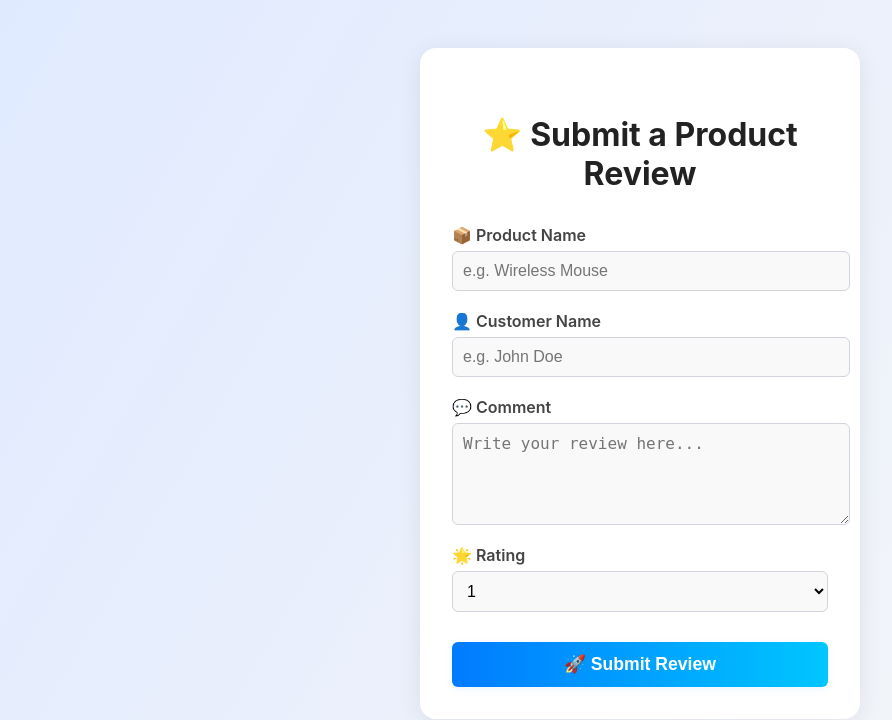
Scenario: App › submits the form and shows success message
The width and height of the screenshot is (892, 720).
Type "Test Product" into the field with test id "product-name-input" at point(651, 270), box [452,250,850,290]
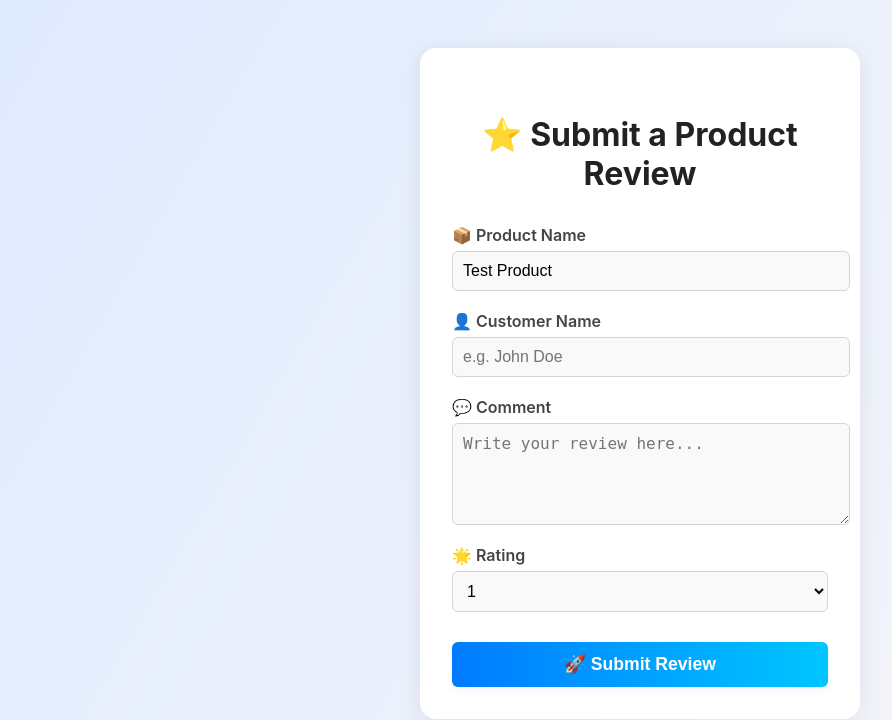
Type "John Doe" into the field with test id "customer-name-input" at point(651, 356), box [452,336,850,376]
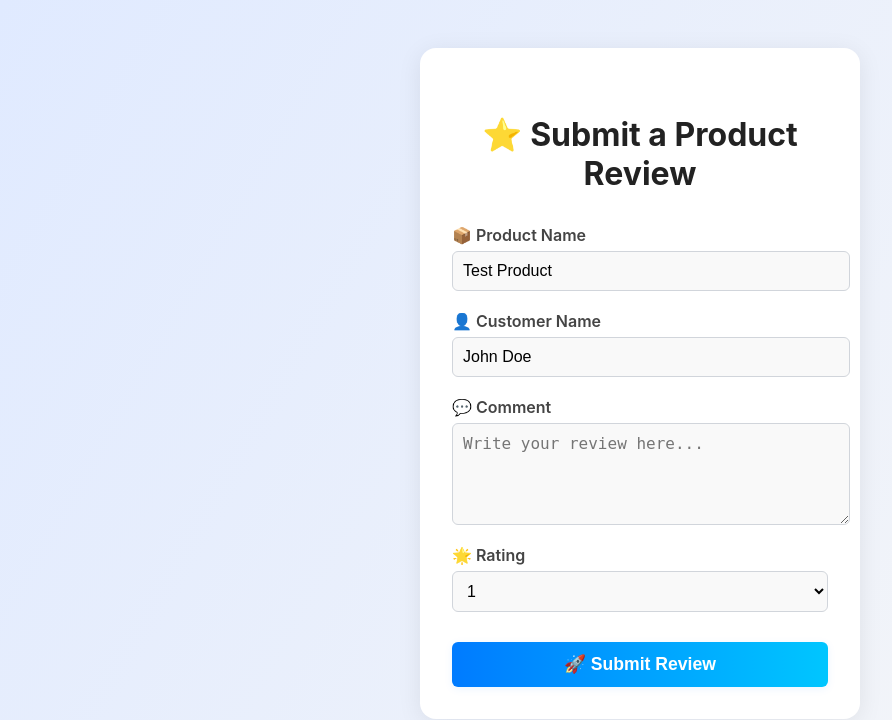
Type "Great product!" into the text box with test id "comment-input" at point(651, 474), box [452,422,850,524]
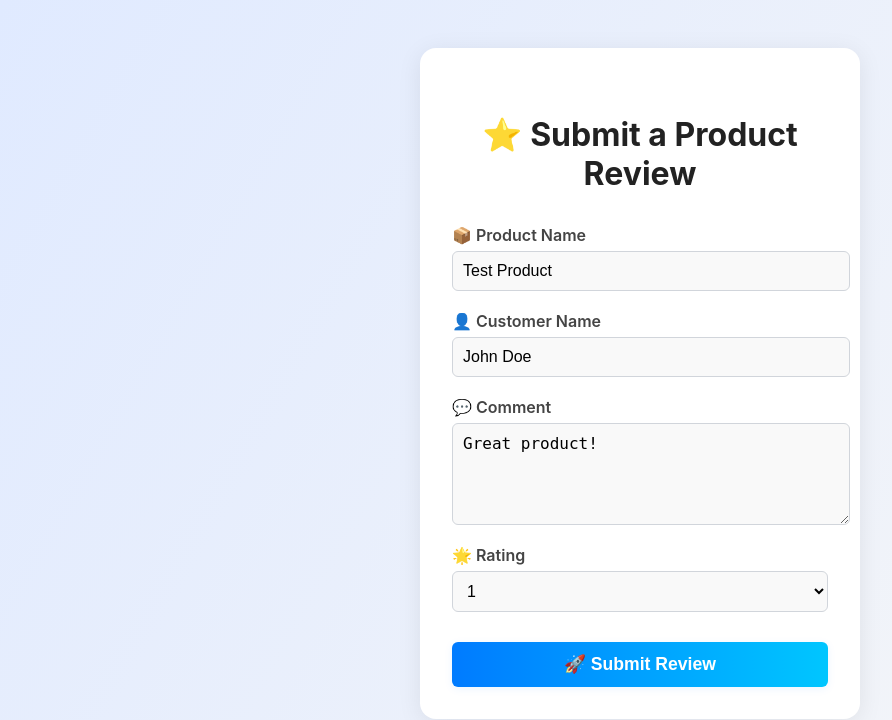
Select "5" in the dropdown with test id "rating-select" showing "🌟 Rating" at point(640, 591), box [452,570,828,612]
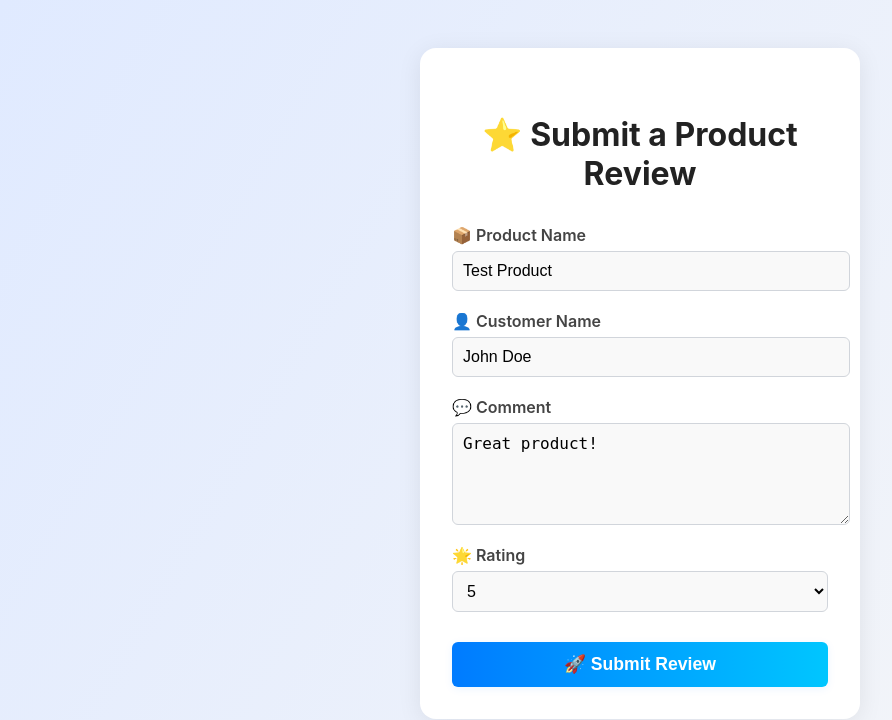
Click the button with test id "submit-review-btn" at point(640, 664), box [452,642,828,686]
(page scrolled)
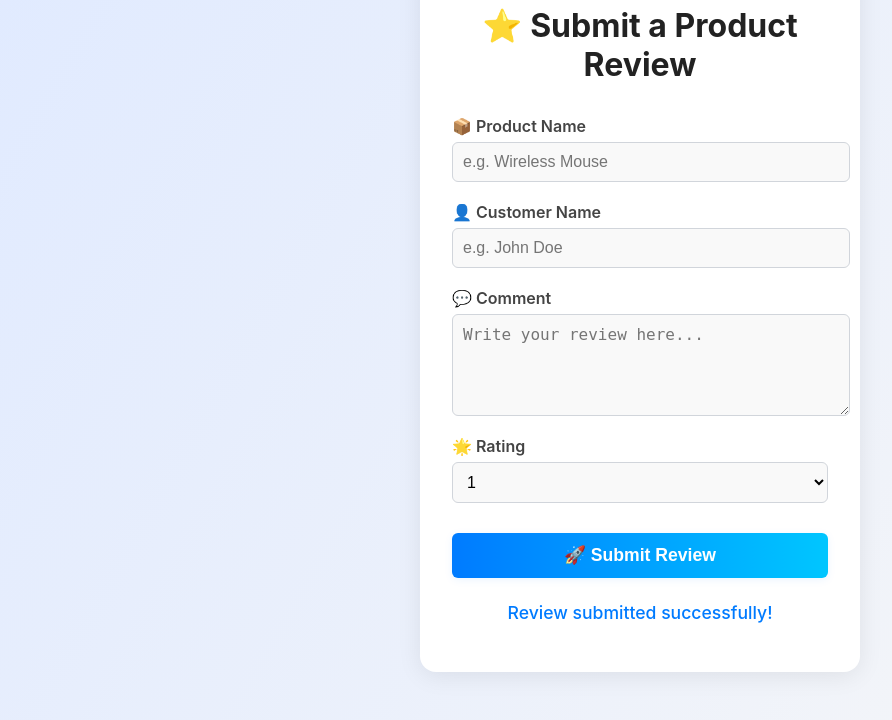
Check: the text with test id "form-message" reads "Review submitted successfully!", box [508,602,772,622]
